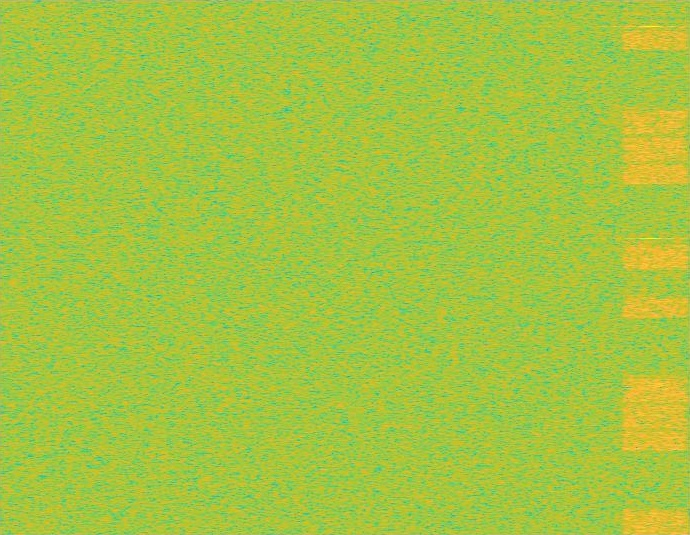LTE: (621, 0, 689, 534)
Radar: (644, 0, 658, 534)
